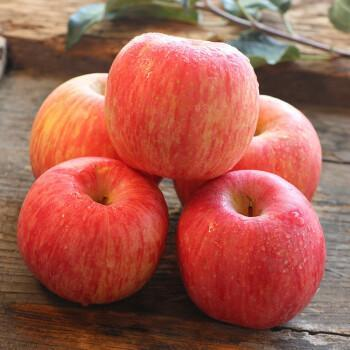apple: (174, 169, 324, 326), (105, 31, 260, 181), (19, 156, 174, 302), (175, 94, 322, 206), (28, 72, 120, 172)
